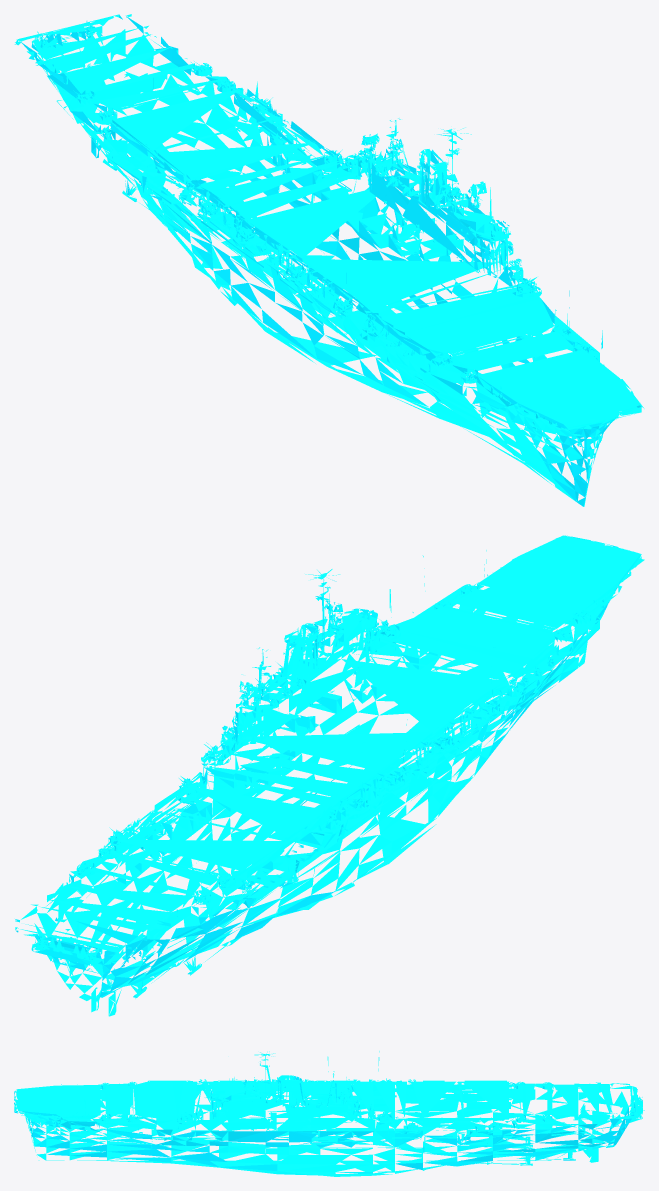
Rendered from PBSA210.glb.
3 renders of one model, top to bottom at view 1: azimuth 30°, elevation 25°; view 2: azimuth 150°, elevation 25°; view 3: azimuth 270°, elevation 25°, orthographic. The views are drawn at different scales.
Visible parts, largest first — view 1: hull, turret; view 2: hull, turret; view 3: hull, turret.
Boxes of the visible parts, x1=… form: hull: x1=14, y1=14, x2=644, y2=506; turret: x1=34, y1=21, x2=593, y2=384; hull: x1=15, y1=535, x2=644, y2=1016; turret: x1=34, y1=582, x2=594, y2=963; hull: x1=14, y1=1051, x2=644, y2=1176; turret: x1=98, y1=1071, x2=642, y2=1122.
Bounding box in the file's own units: 2.99 × 3.87 × 16.49.
